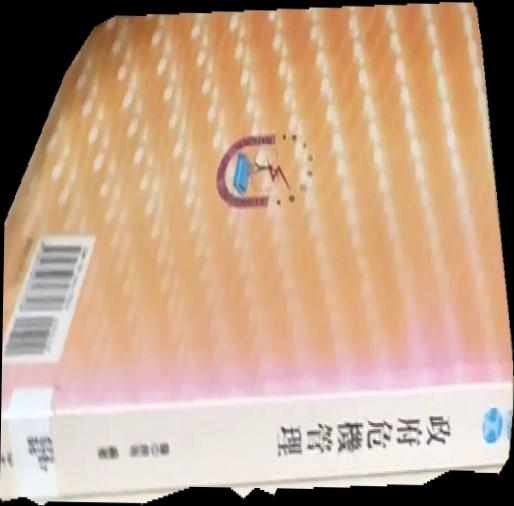flat: (1, 1, 514, 506)
